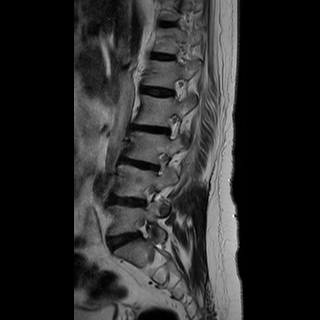RFS0: (161, 109, 186, 144)
